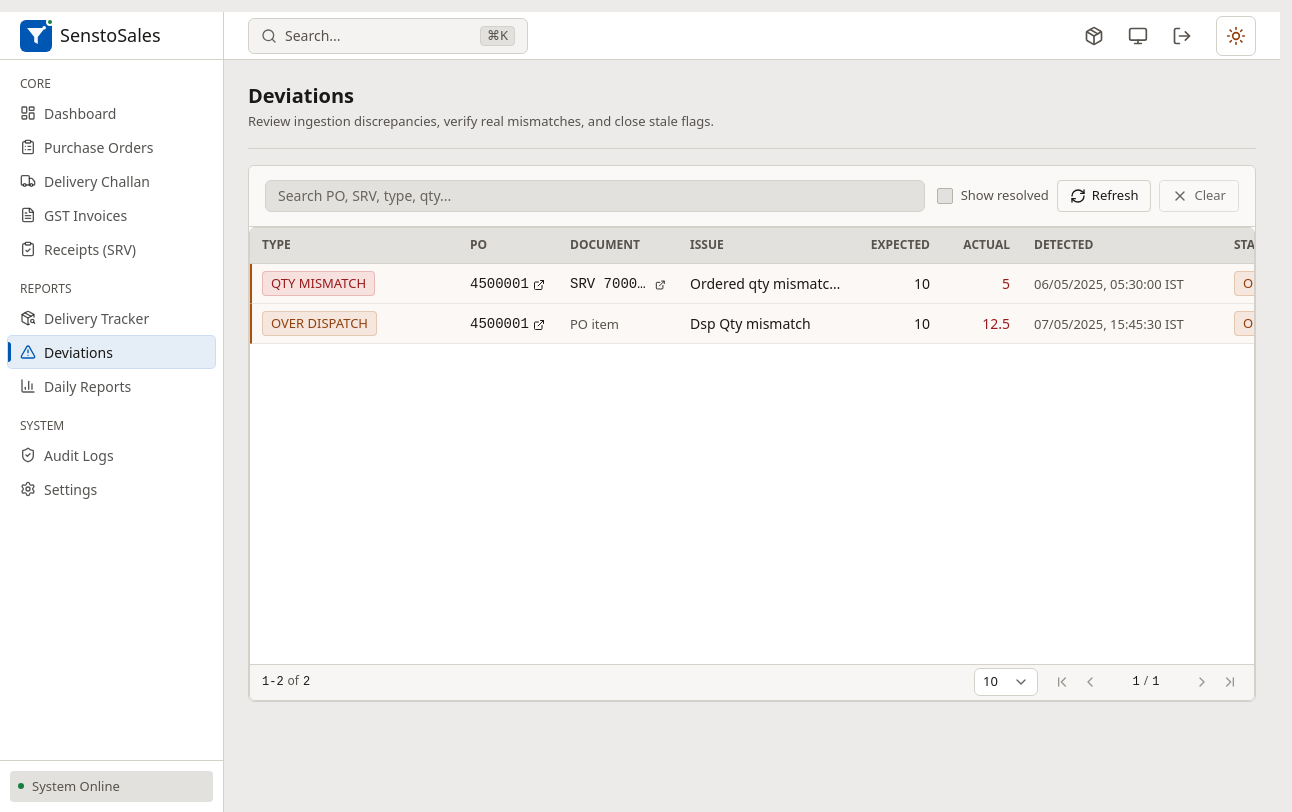
it: deviations (SPEC-17 PR 1) › asks for open flags by default and for every flag with Show resolved; Clear goes back
Click the checkbox named "Show resolved": (945, 196) top-left (937, 188), bottom-right (953, 204)
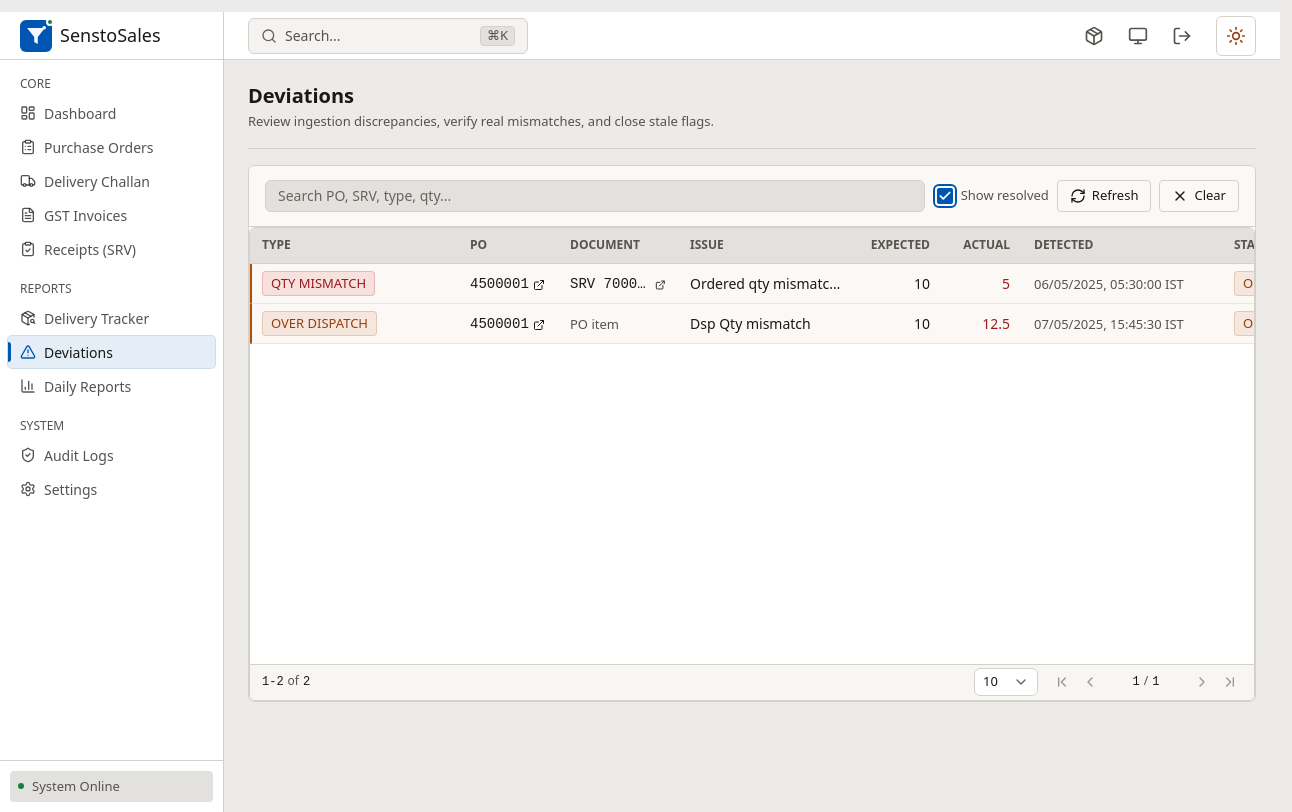
Click the button "Clear": (1199, 196) top-left (1159, 180), bottom-right (1239, 212)
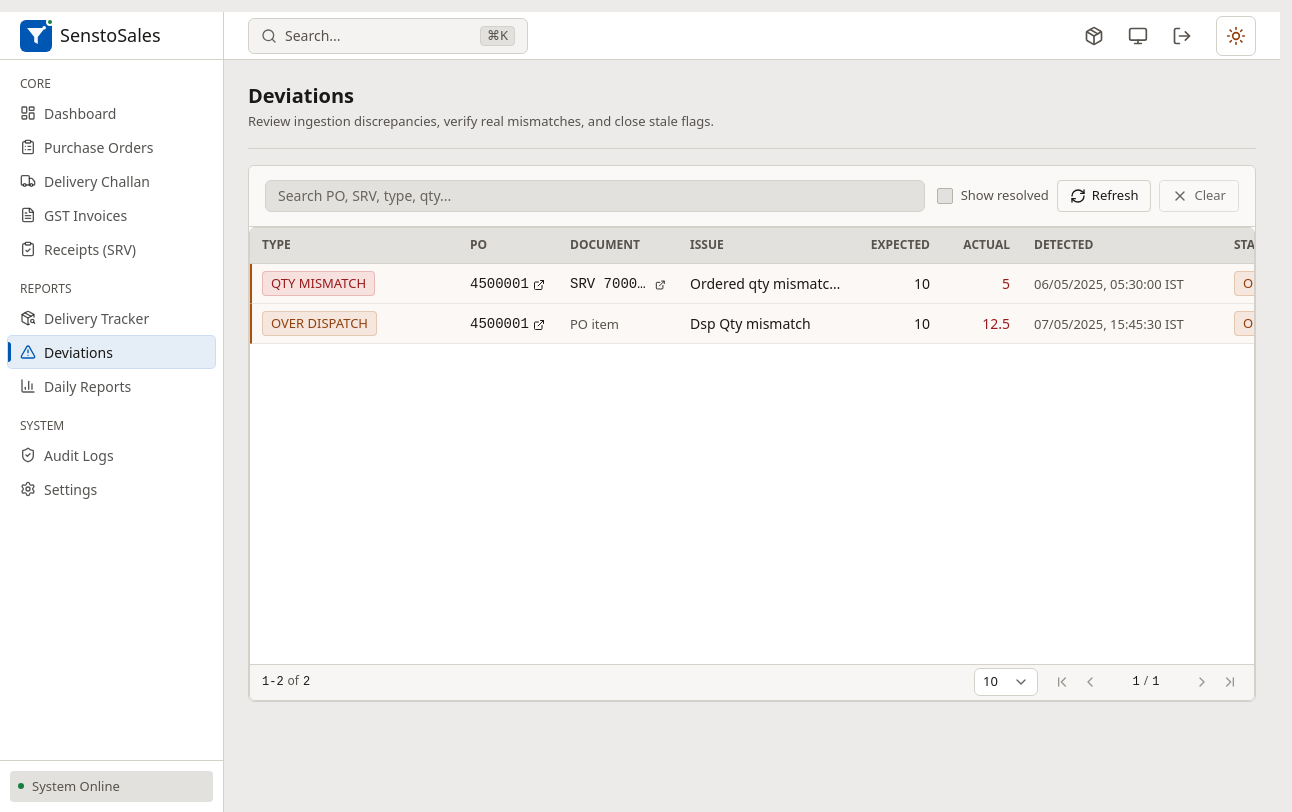
Now the button "Clear" is disabled, box top-left (1159, 180), bottom-right (1239, 212)
